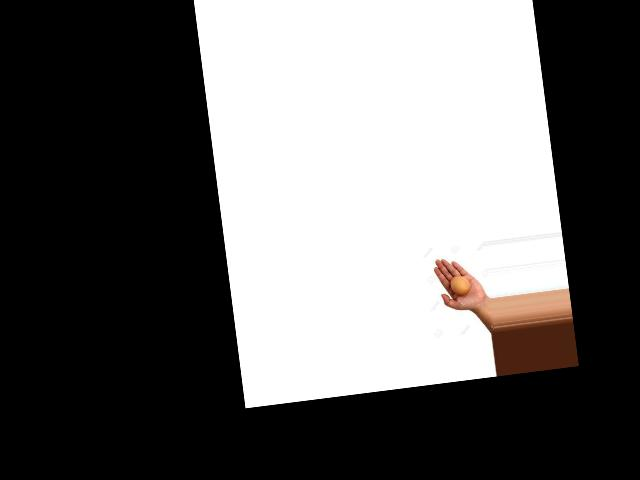egg: (450, 275, 471, 297)
